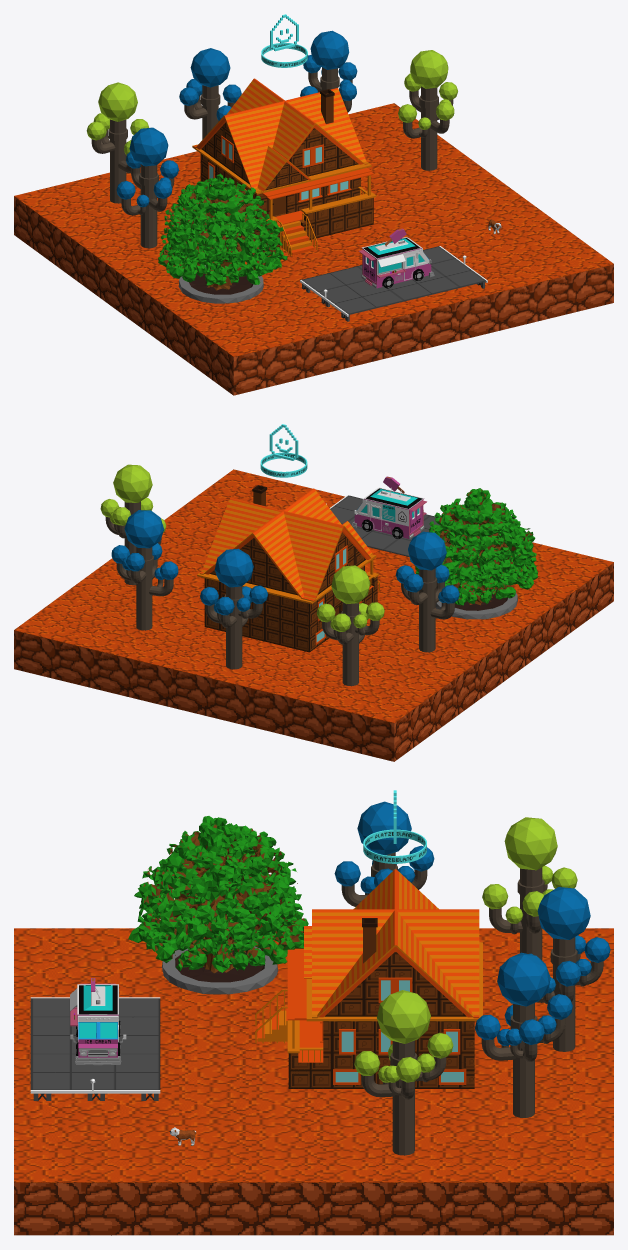
3 views of the same model, one above another, from view 1: azimuth 30°, elevation 25°; view 2: azimuth 150°, elevation 25°; view 3: azimuth 270°, elevation 25° (orthographic). The views are drawn at different scales.
Parts seen in each view (by area): view 1: Cube.001, Cube, OBJRANDOM_CEIBA, VEHICLES_ICE_CREAM_TRUCK, TYPE_PREMIUM; view 2: Cube.001, Cube, OBJRANDOM_CEIBA, VEHICLES_ICE_CREAM_TRUCK, TYPE_PREMIUM; view 3: Cube.001, Cube, OBJRANDOM_CEIBA, VEHICLES_ICE_CREAM_TRUCK, TYPE_PREMIUM.
Part boxes in pixels (bbox=[...]): Cube.001: bbox=[14, 30, 613, 395]; Cube: bbox=[192, 78, 376, 256]; OBJRANDOM_CEIBA: bbox=[158, 173, 287, 303]; VEHICLES_ICE_CREAM_TRUCK: bbox=[358, 228, 434, 288]; TYPE_PREMIUM: bbox=[261, 14, 307, 67]; Cube.001: bbox=[14, 464, 613, 761]; Cube: bbox=[197, 485, 379, 652]; OBJRANDOM_CEIBA: bbox=[415, 488, 537, 619]; VEHICLES_ICE_CREAM_TRUCK: bbox=[351, 476, 426, 538]; TYPE_PREMIUM: bbox=[260, 424, 307, 477]; Cube.001: bbox=[14, 801, 613, 1235]; Cube: bbox=[255, 869, 482, 1088]; OBJRANDOM_CEIBA: bbox=[128, 816, 308, 994]; VEHICLES_ICE_CREAM_TRUCK: bbox=[70, 978, 126, 1065]; TYPE_PREMIUM: bbox=[363, 790, 426, 863].
Bounding box in the file's own units: 4000 × 2383 × 4000.
44 materials, 6 textured.
